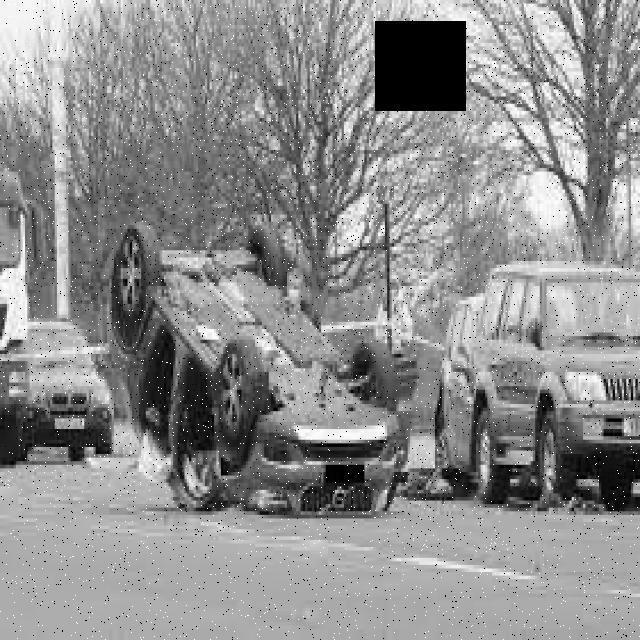accident: (107, 209, 403, 513)
vehicle: (482, 259, 640, 509), (0, 154, 53, 480), (29, 310, 113, 458)
